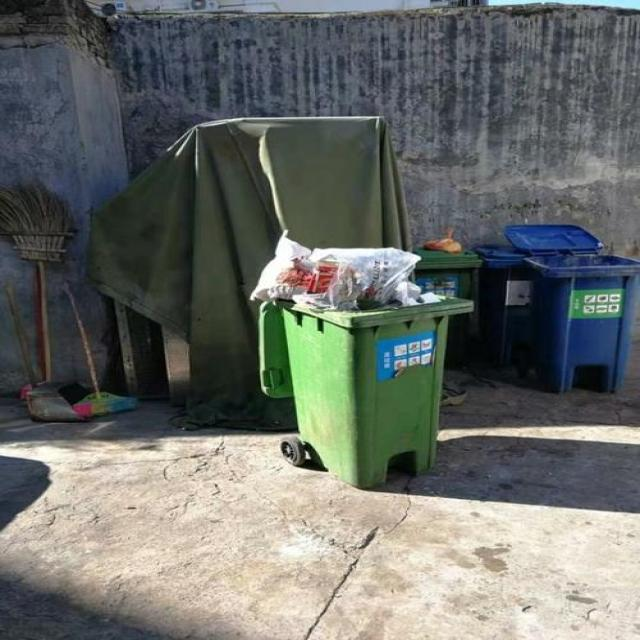garbage_bin: (526, 254, 635, 392), (475, 244, 535, 366)
overflow: (244, 230, 473, 486), (412, 226, 479, 296)
